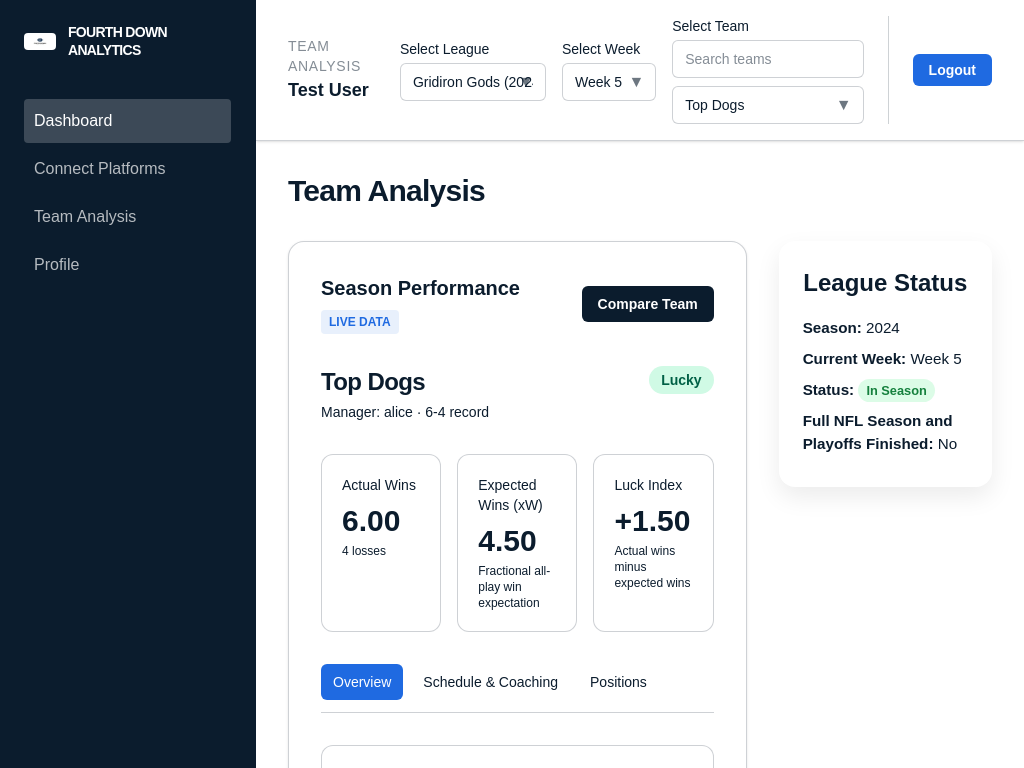
Test: Team analysis page › switches metric tabs and only shows the overview chart on the overview tab
Click the button "Positions" at [618, 682], box [578,664,659,700]
(page scrolled)
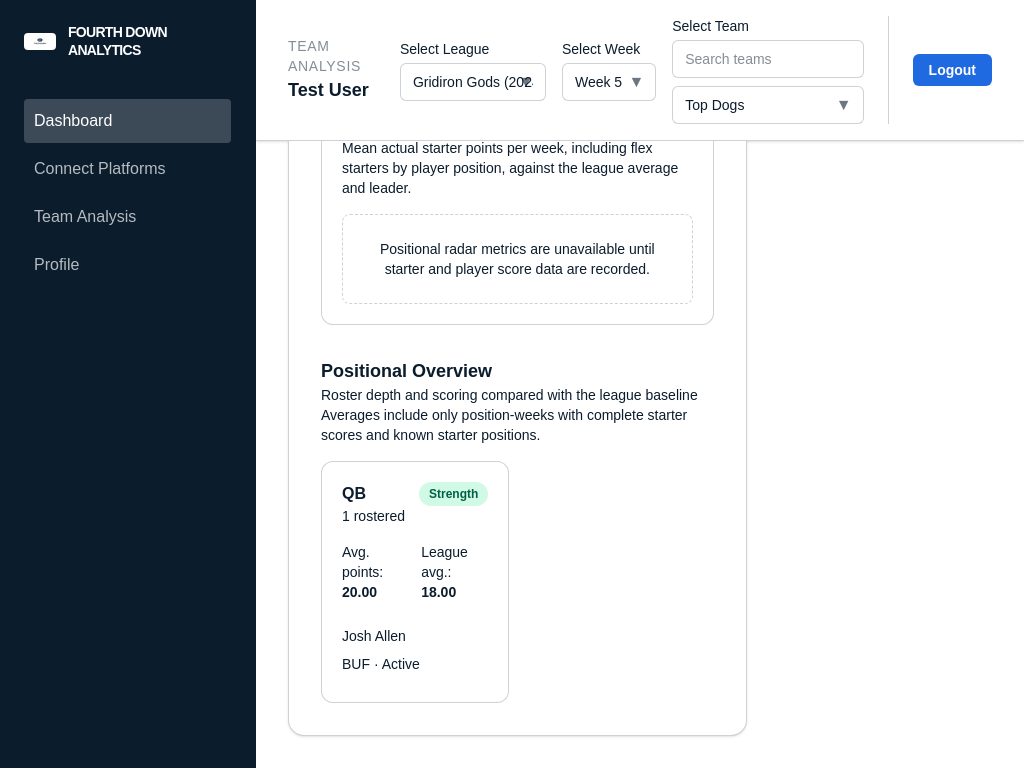
Expected: the text "Josh Allen" is shown, [342,626,406,646]
